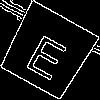E: (23, 26, 75, 82)
